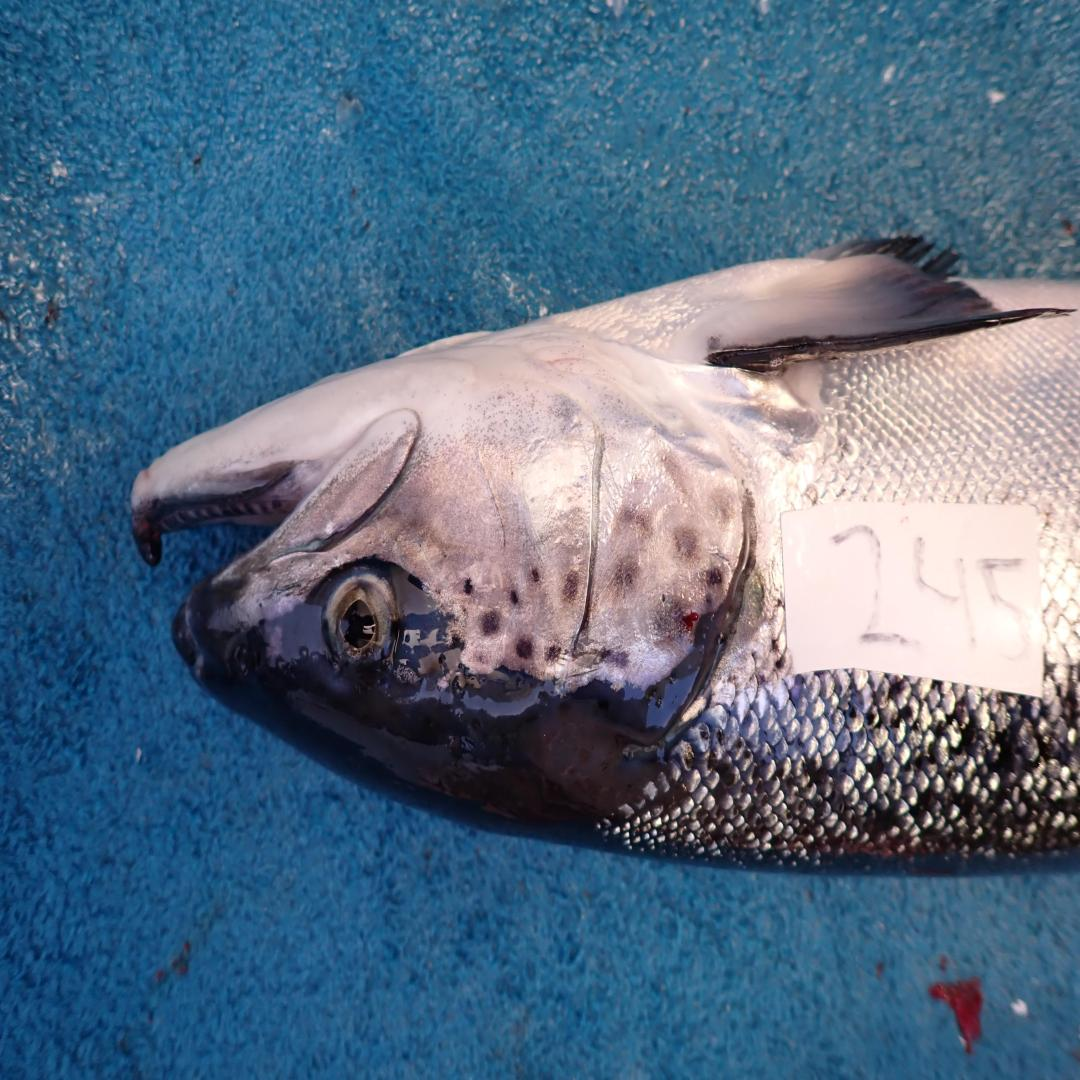spot: (657, 600, 687, 643), (673, 526, 697, 559), (621, 510, 652, 535), (614, 561, 638, 590), (481, 610, 500, 636), (515, 636, 534, 661), (601, 650, 628, 666), (563, 571, 577, 601), (545, 645, 560, 664), (707, 568, 723, 585), (510, 590, 519, 604), (531, 567, 539, 582), (464, 579, 472, 593)
